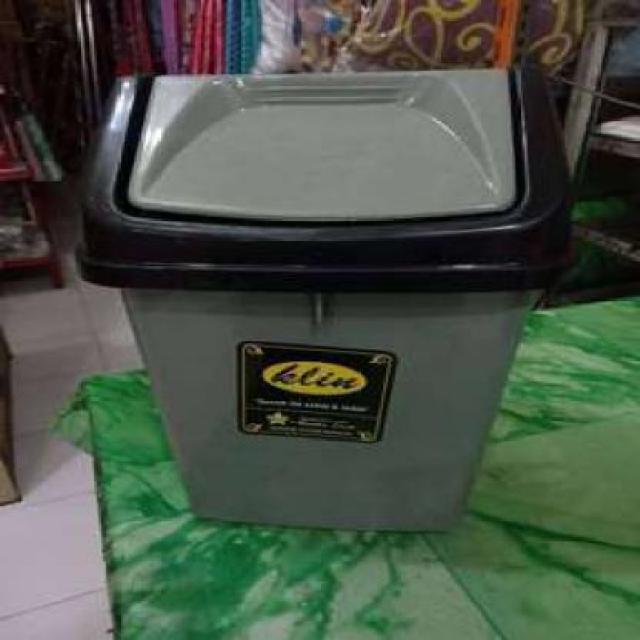garbage container: (63, 64, 582, 554)
